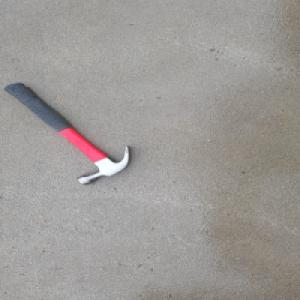Hammer: (4, 81, 134, 185)
